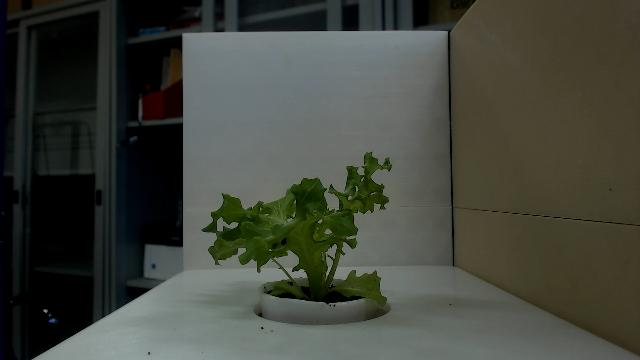Vegetative Stage: (201, 150, 393, 308)
